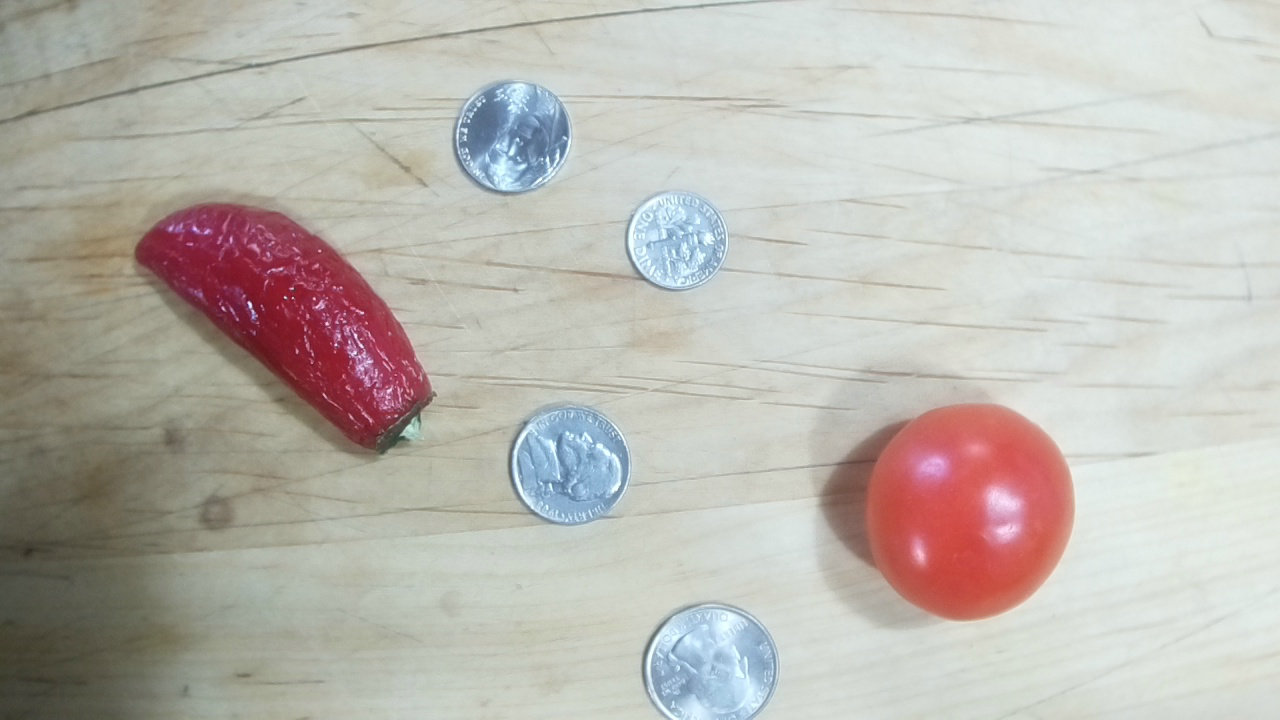dime: (624, 187, 730, 293)
nickel: (505, 398, 635, 530), (452, 80, 572, 194)
quarter: (640, 598, 782, 718)
